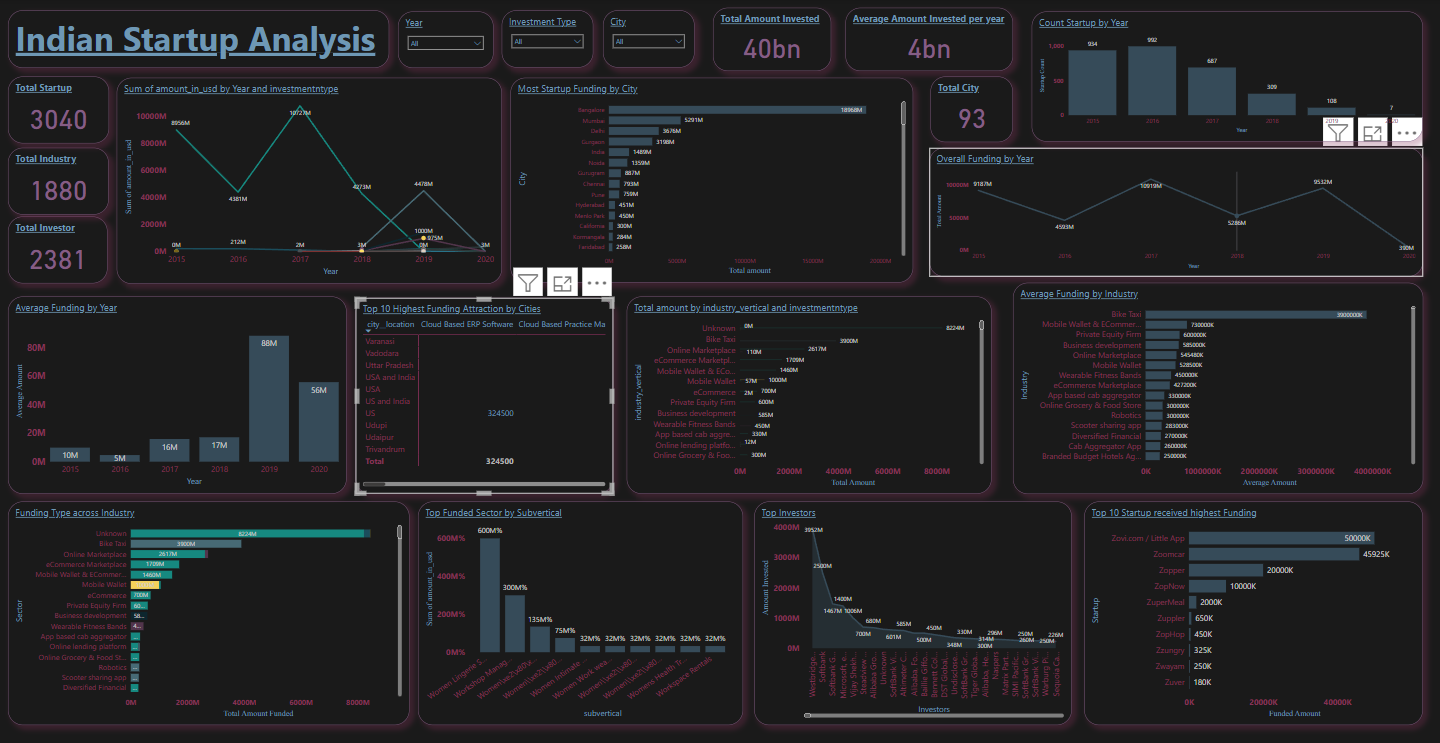

Layout of this report page (visuals, bound fields, positions):
{"tool":"powerbi","page":{"name":"Page 1","canvas":[2900,1500],"ordinal":0},"visuals":[{"type":"barChart","title":"Most Startup Funding by City","fields":{"Y":["Updated_data.amount_in_usd"],"Category":["Updated_data.city__location"]},"box":[1030.5,158.3,809.3,412.2],"z":0},{"type":"lineChart","title":"Overall Funding by Year","fields":{"Category":["Updated_data.date.Variation.Date Hierarchy.Year"],"Y":["Updated_data.amount_in_usd"]},"box":[1872.5,299.1,992.8,258.9],"z":1000},{"type":"clusteredColumnChart","title":"Average Funding by Year","fields":{"Category":["Updated_data.date.Variation.Date Hierarchy.Year"],"Y":["Updated_data.amount_in_usd"]},"box":[20.1,598.2,681.1,397.1],"z":2000},{"type":"columnChart","title":"Top Funded Sector by Subvertical","fields":{"Category":["Updated_data.subvertical"],"Y":["Updated_data.amount_in_usd"]},"box":[844.5,1010.4,653.5,449.9],"z":3000},{"type":"slicer","title":"Year","fields":{"Values":["Updated_data.date.Variation.Date Hierarchy.Year"]},"box":[803.8,24,191.7,113.3],"z":4000},{"type":"slicer","title":"Investment Type","fields":{"Values":["Updated_data.investmentntype"]},"box":[1013.9,23,184,115],"z":5000},{"type":"slicer","title":"City","fields":{"Values":["Updated_data.city__location"]},"box":[1216.7,23,184,115],"z":6000},{"type":"areaChart","title":"Top Investors","fields":{"Category":["Updated_data.investors_name"],"Y":["Updated_data.amount_in_usd"]},"box":[1520.6,1010.4,638.4,449.9],"z":7000},{"type":"barChart","title":"Average Funding by Industry","fields":{"Category":["Updated_data.industry_vertical"],"Y":["Updated_data.amount_in_usd"]},"box":[2040.9,570.5,824.4,424.8],"z":8000},{"type":"clusteredBarChart","title":"Total amount  by industry_vertical and investmentntype","fields":{"Category":["Updated_data.industry_vertical"],"Series":["Updated_data.investmentntype"],"Y":["Updated_data.amount_in_usd"]},"box":[1264.2,598.2,733.9,397.1],"z":9000},{"type":"columnChart","title":"Count Startup by Year","fields":{"Category":["Updated_data.date.Variation.Date Hierarchy.Year"],"Y":["Updated_data.startup_name"]},"box":[2078.6,25.1,786.7,261.4],"z":10000},{"type":"barChart","title":"Funding Type across Industry","fields":{"Category":["Updated_data.industry_vertical"],"Series":["Updated_data.investmentntype"],"Y":["Updated_data.amount_in_usd"]},"box":[20.1,1010.4,806.8,449.9],"z":11000},{"type":"pivotTable","title":"Top 10 Highest Funding Attraction by Cities","fields":{"Rows":["Updated_data.city__location"],"Columns":["Updated_data.industry_vertical"],"Values":["Updated_data.amount_in_usd"]},"box":[718.8,600.7,517.8,394.6],"z":12000},{"type":"lineChart","fields":{"Category":["Updated_data.date.Variation.Date Hierarchy.Year"],"Y":["Updated_data.amount_in_usd"],"Series":["Updated_data.investmentntype"]},"box":[240,157.6,774.1,414.1],"z":13000},{"type":"barChart","title":"Top 10 Startup received highest Funding","fields":{"Y":["Updated_data.amount_in_usd"],"Category":["Updated_data.startup_name"]},"box":[2184.2,1010.4,681.1,449.9],"z":14000},{"type":"card","title":"Total Amount Invested","fields":{"Values":["Updated_data.amount_in_usd"]},"box":[1437.6,16.5,237.6,127.1],"z":15000},{"type":"card","title":"Average Amount Invested per year","fields":{"Values":["Updated_data.amount_in_usd"]},"box":[1703.5,16.5,336.5,127.1],"z":16000},{"type":"card","title":"Total Investor","fields":{"Values":["Updated_data.investors_name"]},"box":[21.2,437.6,200,134.1],"z":17000},{"type":"card","title":"Total Industry","fields":{"Values":["Updated_data.industry_vertical"]},"box":[21.2,298.8,202.3,134.1],"z":18000},{"type":"card","title":"Total Startup","fields":{"Values":["Updated_data.startup_name"]},"box":[21.2,155.7,202.9,134.5],"z":19000},{"type":"textbox","title":"Indian Startup Analysis","box":[21.2,23.6,766.8,115.6],"z":20000},{"type":"card","title":"Total City","fields":{"Values":["Updated_data.city__location"]},"box":[1875.7,155.4,166,131.7],"z":20001}]}

Visuals, with their boxes in screenshot pixels (x1, y1, x2, y2), scaled from the page's 2900x1500 canvas onto the 1440x743 screenshot:
"Most Startup Funding by City" barChart: rect(512, 78, 914, 283)
"Overall Funding by Year" lineChart: rect(930, 148, 1423, 276)
"Average Funding by Year" clusteredColumnChart: rect(10, 296, 348, 493)
"Top Funded Sector by Subvertical" columnChart: rect(419, 500, 744, 723)
"Year" slicer: rect(399, 12, 494, 68)
"Investment Type" slicer: rect(503, 11, 595, 68)
"City" slicer: rect(604, 11, 696, 68)
"Top Investors" areaChart: rect(755, 500, 1072, 723)
"Average Funding by Industry" barChart: rect(1013, 283, 1423, 493)
"Total amount  by industry_vertical and investmentntype" clusteredBarChart: rect(628, 296, 992, 493)
"Count Startup by Year" columnChart: rect(1032, 12, 1423, 142)
"Funding Type across Industry" barChart: rect(10, 500, 411, 723)
"Top 10 Highest Funding Attraction by Cities" pivotTable: rect(357, 298, 614, 493)
lineChart - Updated_data.date.Variation.Date Hierarchy.Year x Updated_data.amount_in_usd: rect(119, 78, 504, 283)
"Top 10 Startup received highest Funding" barChart: rect(1085, 500, 1423, 723)
"Total Amount Invested" card: rect(714, 8, 832, 71)
"Average Amount Invested per year" card: rect(846, 8, 1013, 71)
"Total Investor" card: rect(11, 217, 110, 283)
"Total Industry" card: rect(11, 148, 111, 214)
"Total Startup" card: rect(11, 77, 111, 144)
"Indian Startup Analysis" textbox: rect(11, 12, 391, 69)
"Total City" card: rect(931, 77, 1014, 142)
